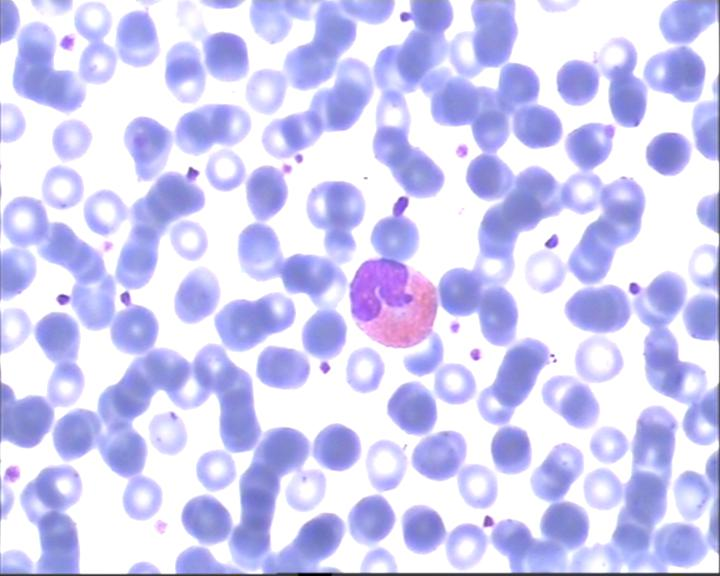eosi: (343, 254, 441, 350)
